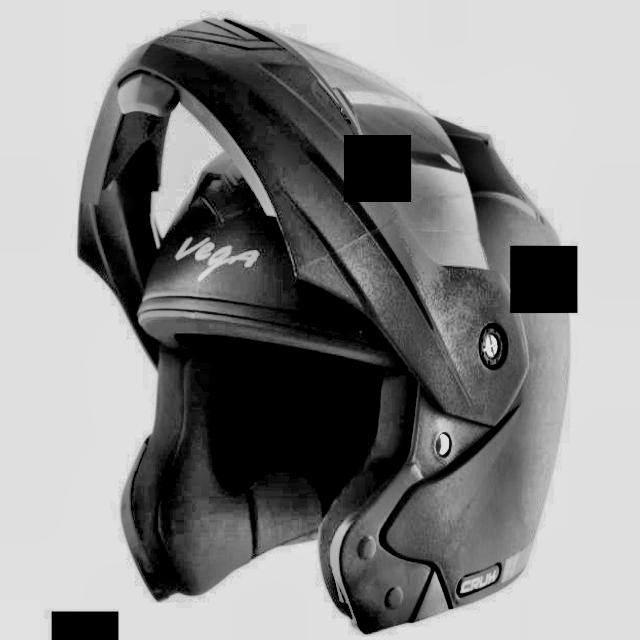Helmet: (78, 9, 590, 624)
